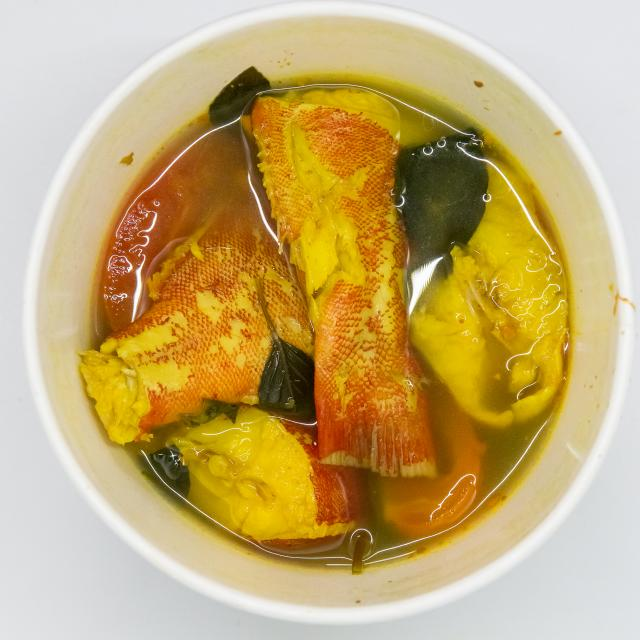Gulai-Ikan-Mas: (89, 60, 574, 566)
